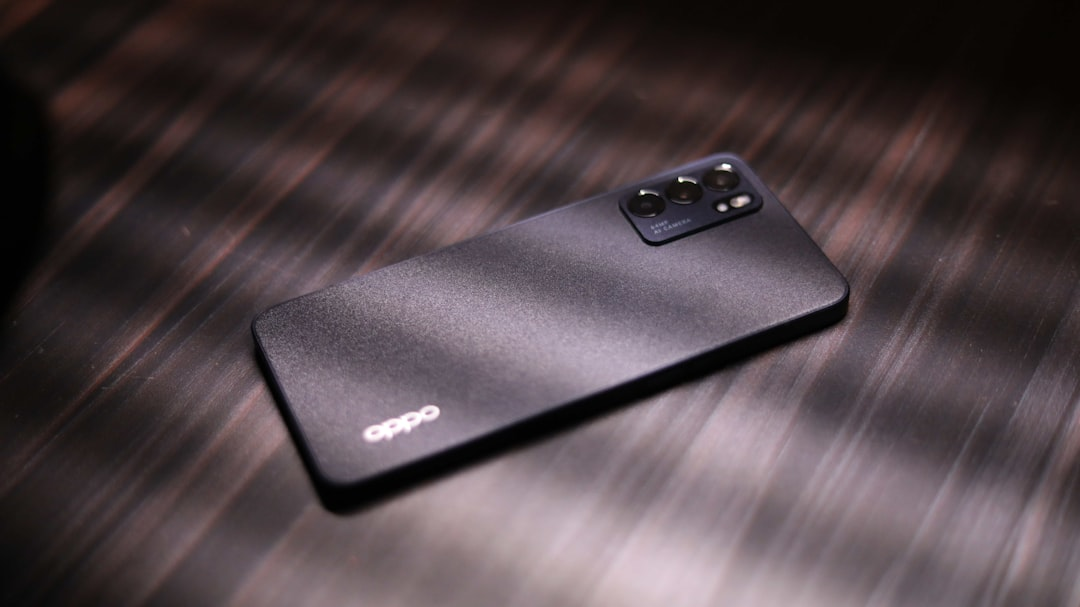phone: (250, 153, 854, 510)
